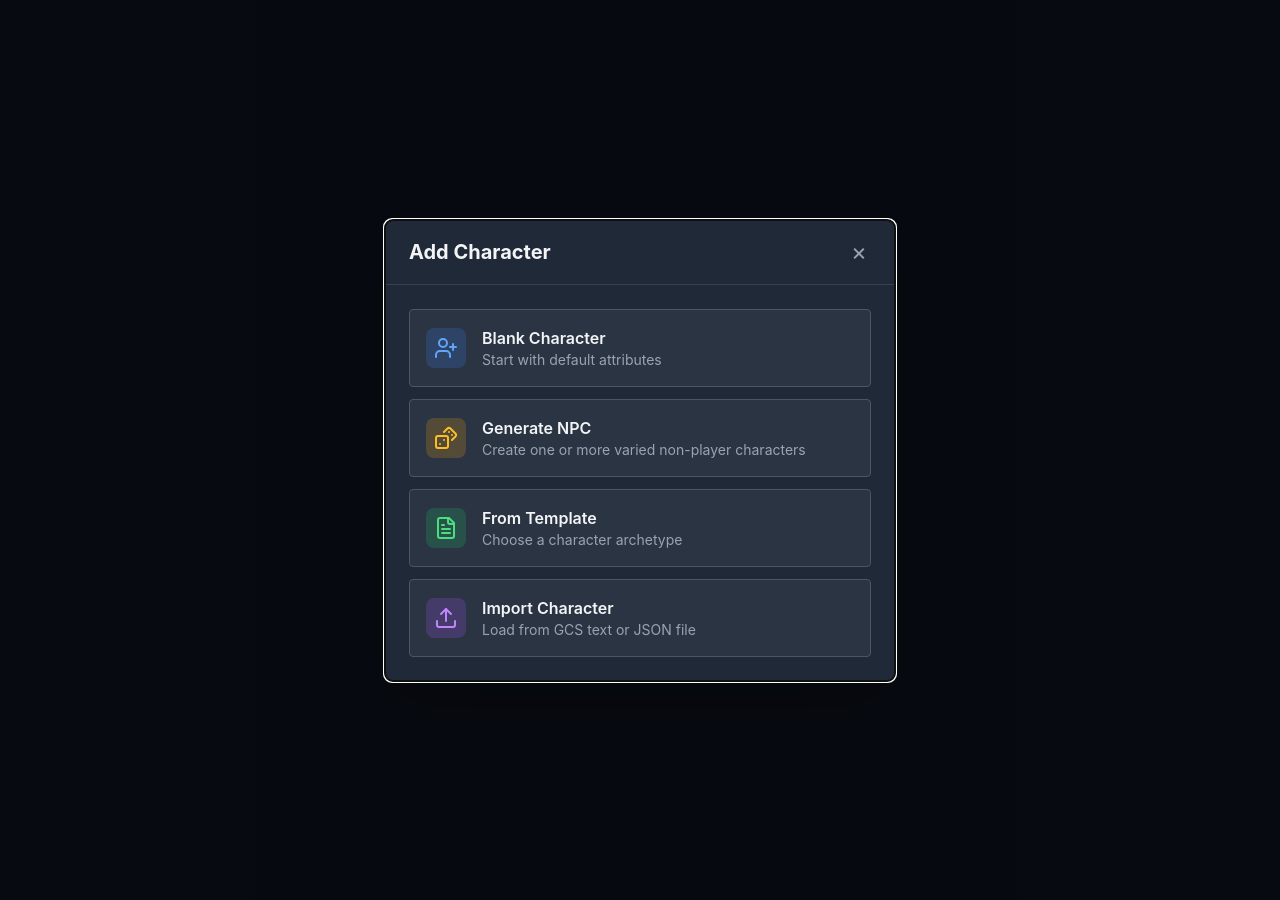
CharacterCreationModal › navigates to import step
Click the text "Import Character" at x=548, y=608, box [482,598,614,618]
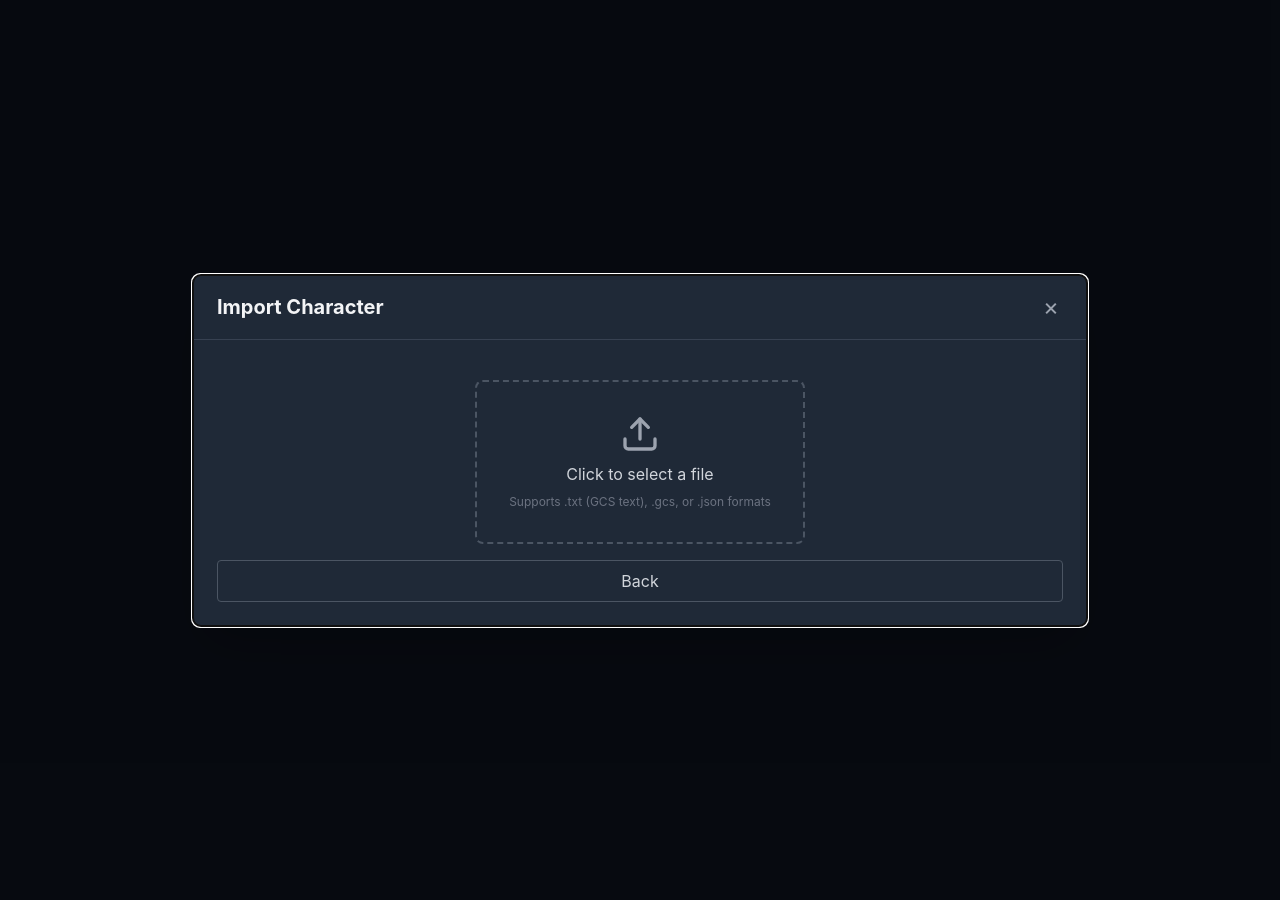
Expected: the heading "Import Character" is shown, [217,292,384,320]
Expected: the text "Click to select a file" is shown, [566,462,714,486]
